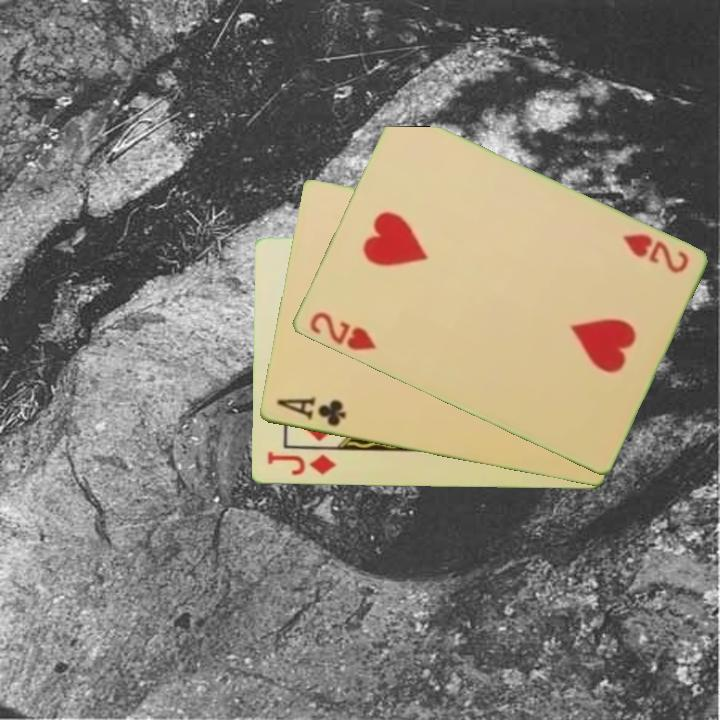2h: (618, 230, 691, 277), (305, 308, 379, 354)
Ac: (272, 393, 348, 430)
Jd: (263, 448, 338, 479)
